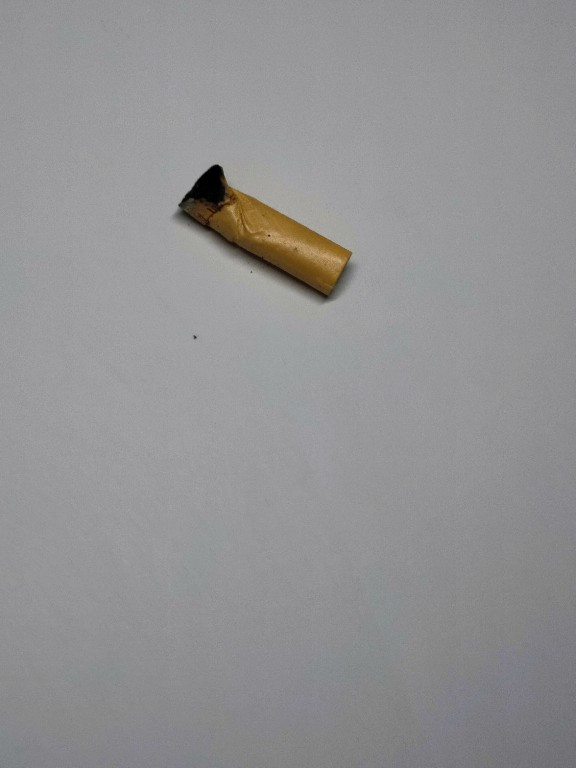cigarette: (174, 161, 358, 304)
